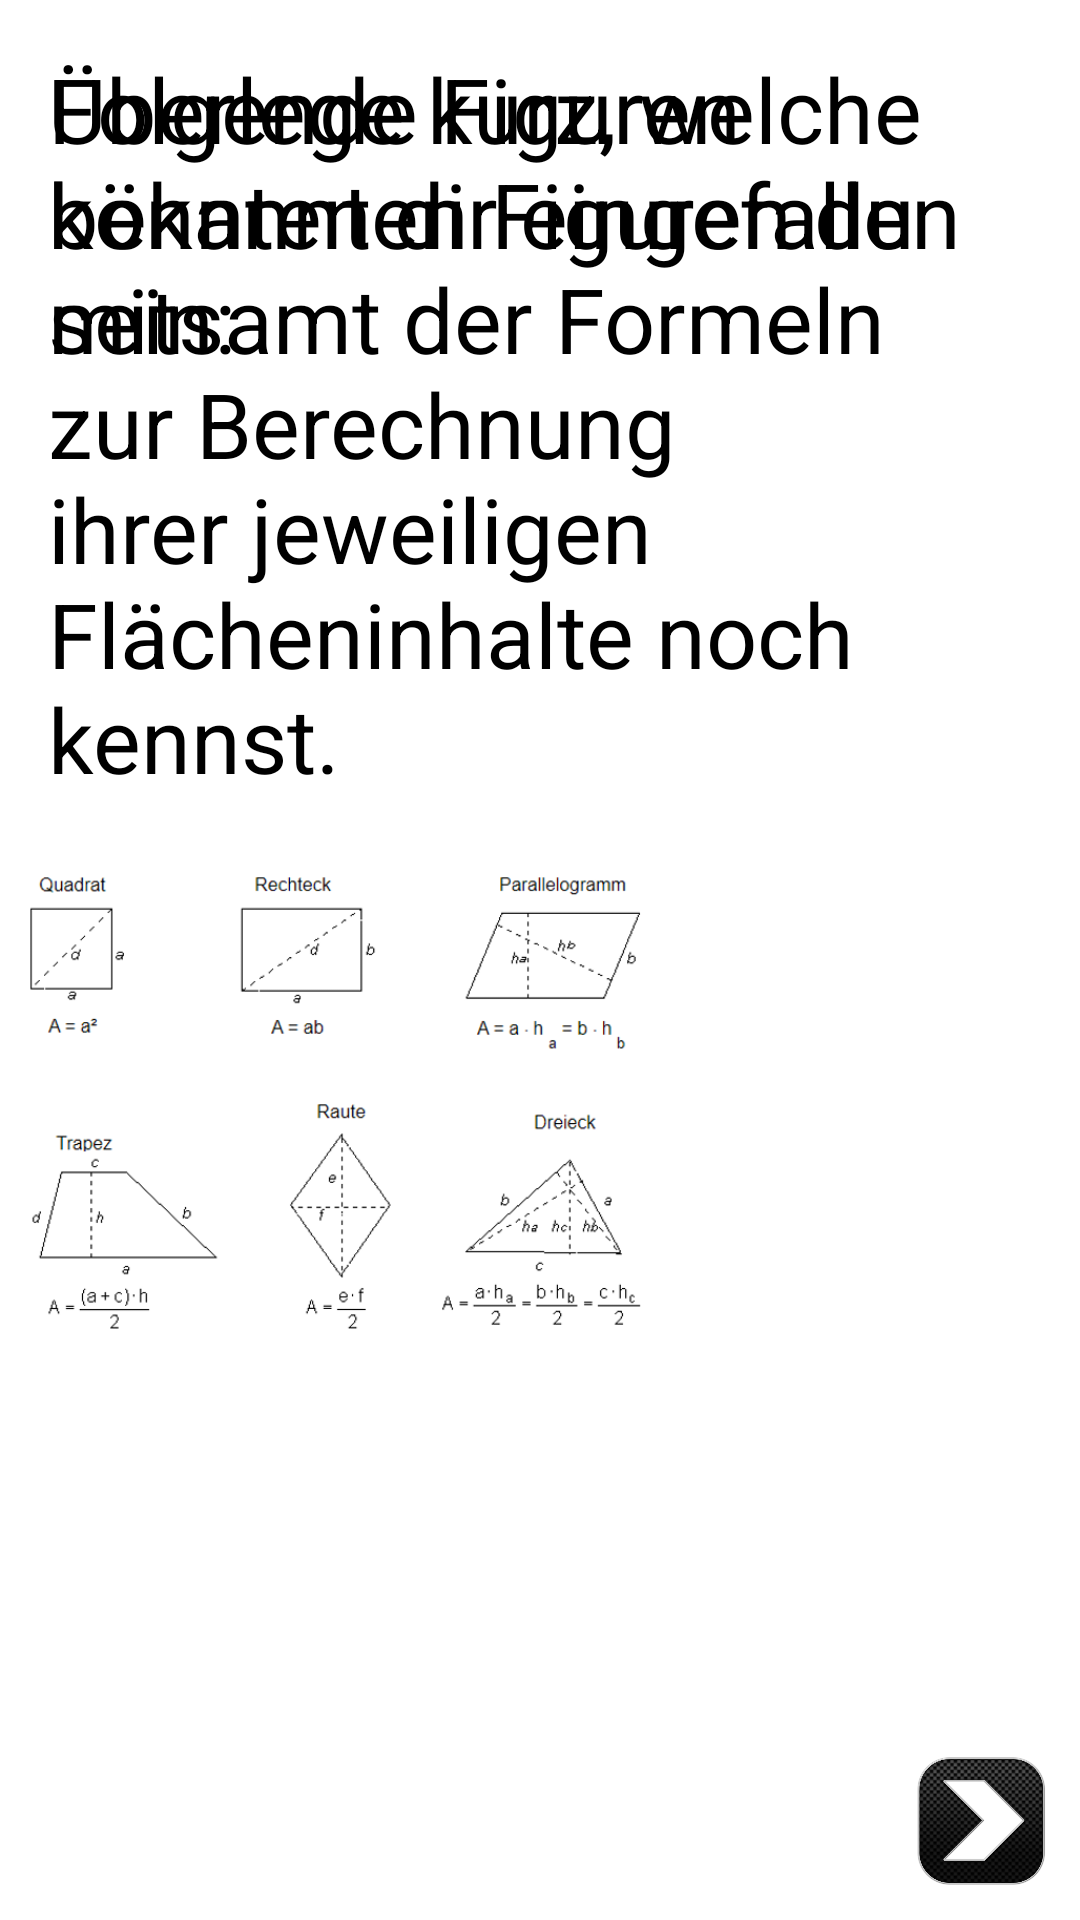

Icon bounding boxes for this 1080x1920 phone screenshot, format (x1, y1, x2, y2):
nextbutton: (918, 1757, 1045, 1885)
